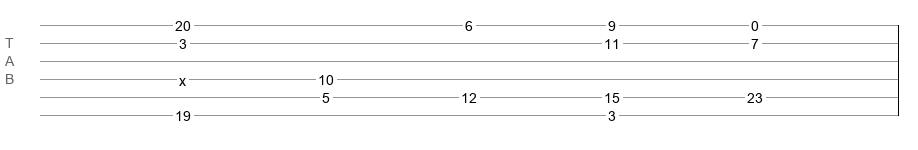0: (751, 18, 759, 28)
10: (318, 72, 334, 82)
11: (604, 36, 620, 46)
12: (461, 90, 477, 100)
15: (604, 90, 620, 100)
19: (175, 108, 191, 118)
20: (175, 18, 191, 28)
23: (747, 90, 763, 100)
3: (179, 36, 187, 46), (608, 108, 616, 118)
5: (322, 90, 330, 100)
6: (465, 18, 473, 28)
7: (751, 36, 759, 46)
9: (608, 18, 616, 28)
x: (179, 73, 186, 81)
